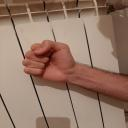Fist: (22, 38, 75, 86)
